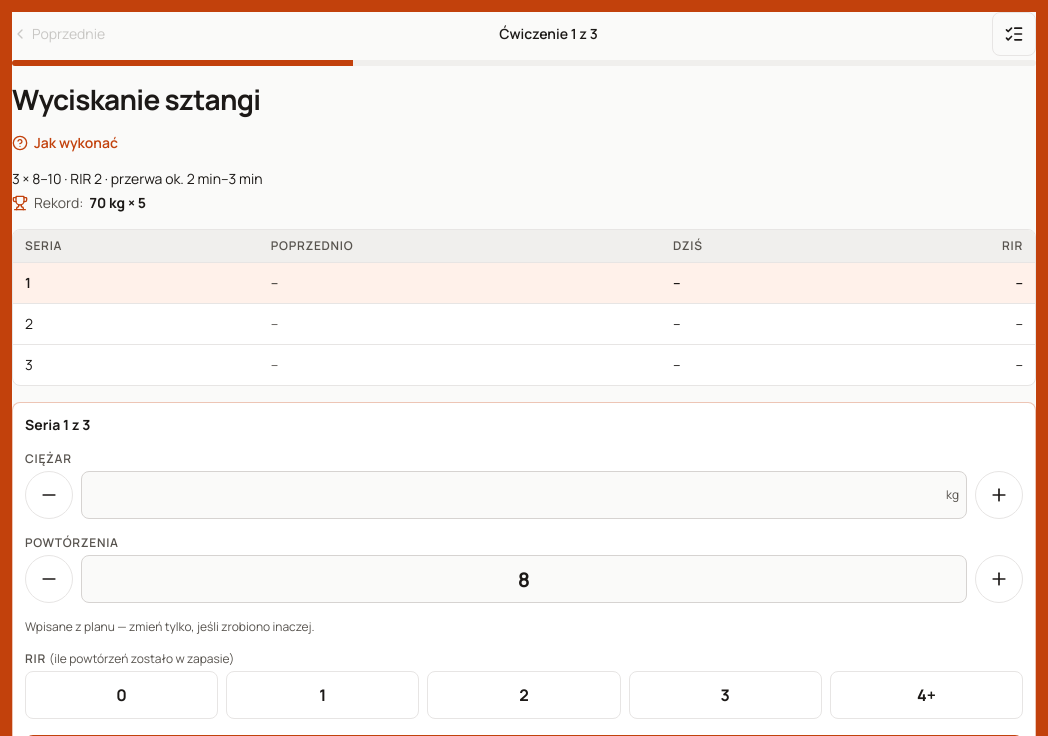
Scenario: SetScreen › dumbbells step by 1 kg
Click the button named "Ciężar: więcej": click(999, 495) [975,471,1023,519]
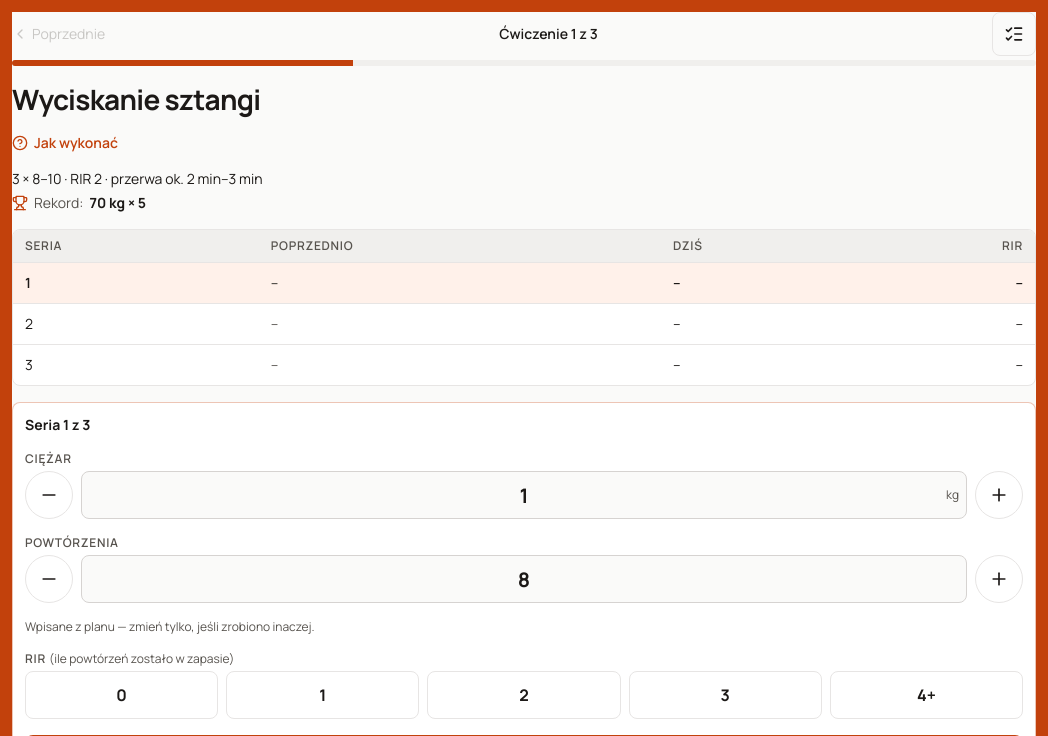
expect the field labelled "Ciężar" holds "1": met, box [81,471,967,519]
